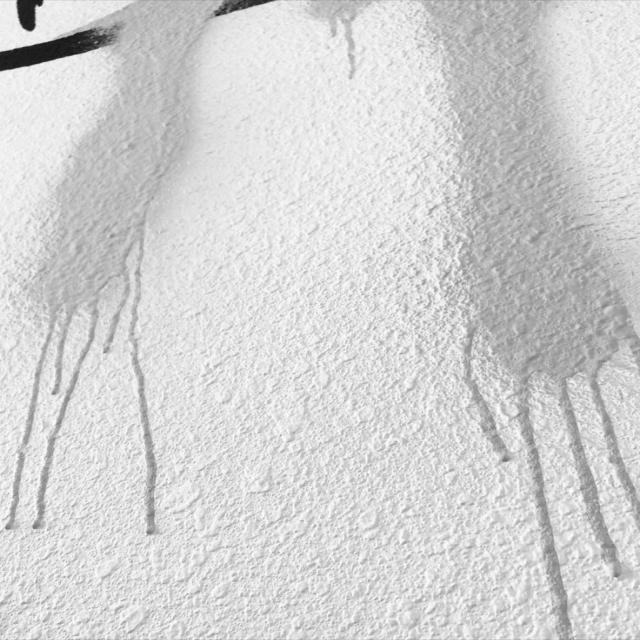paint drips: (445, 309, 640, 640), (0, 188, 170, 540), (314, 10, 368, 86)
